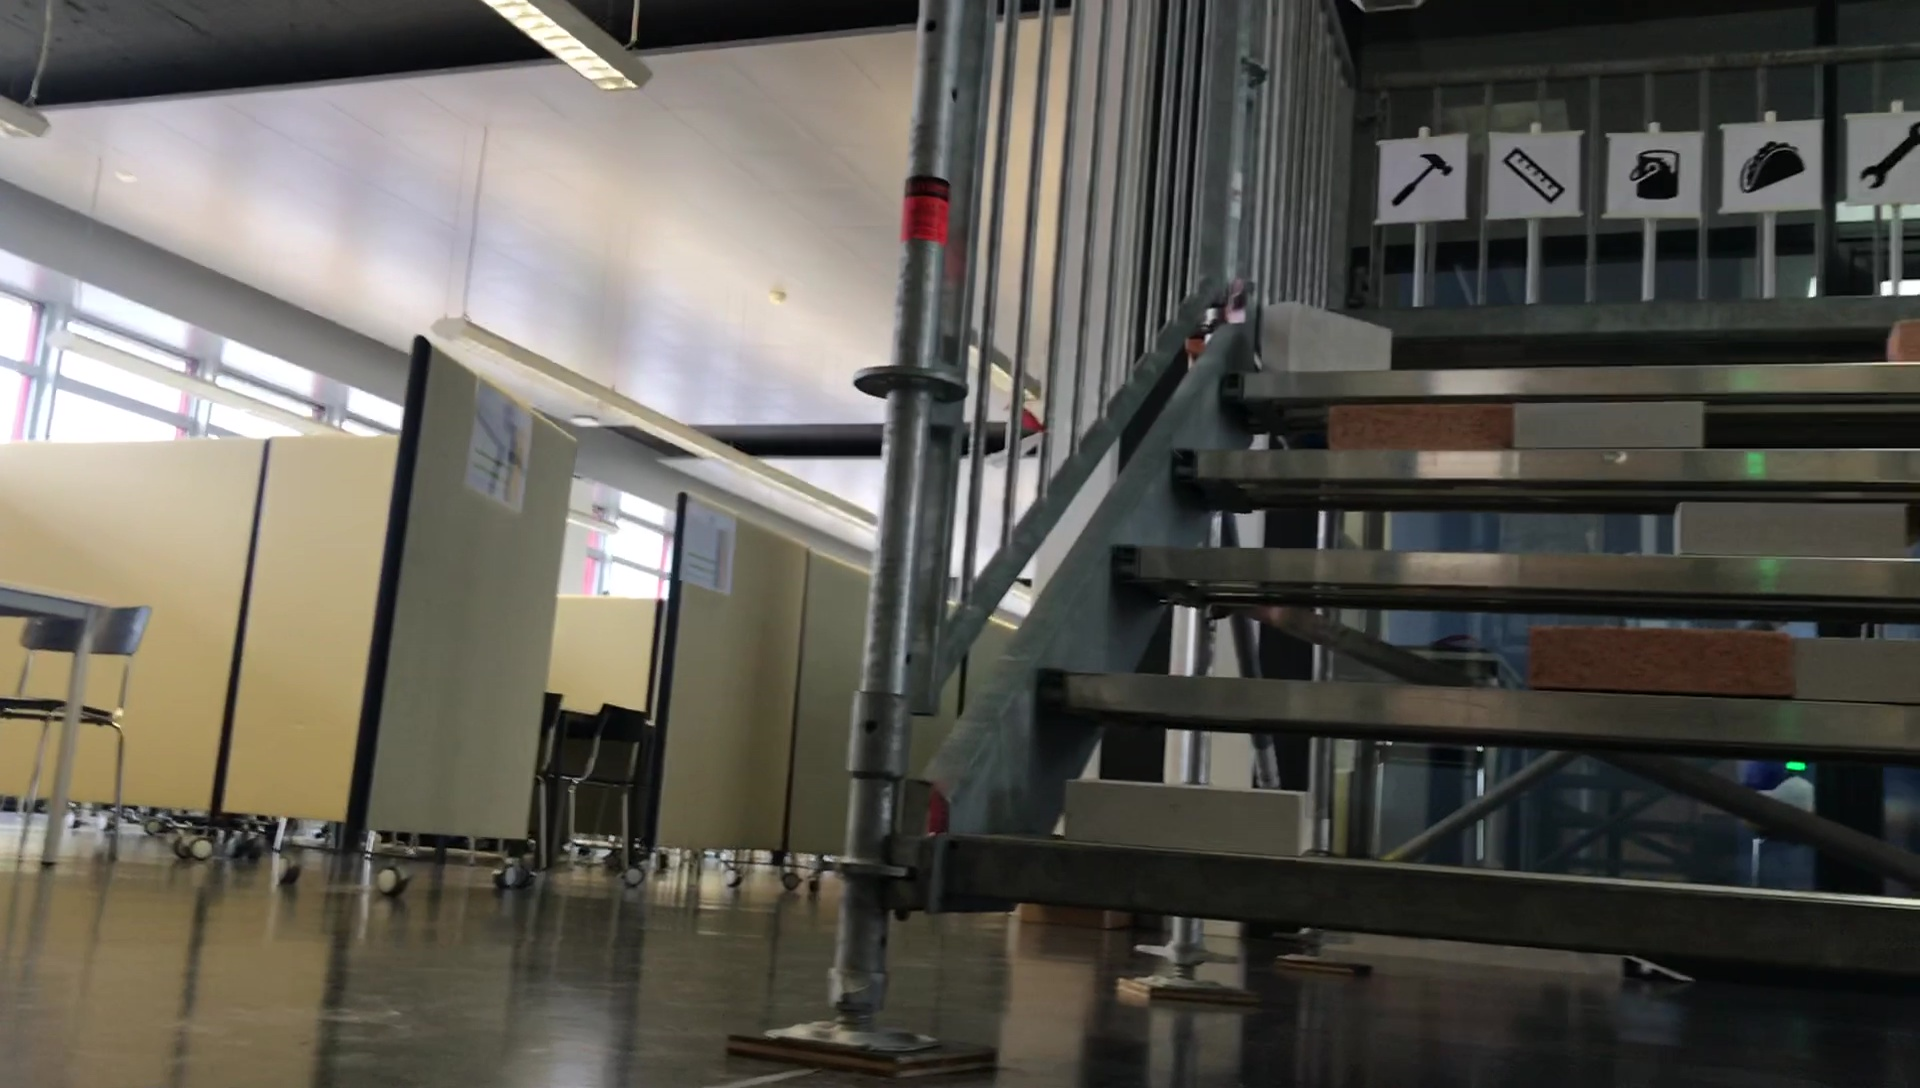brick: (1062, 770, 1319, 851), (1527, 619, 1788, 692), (1669, 501, 1916, 550), (1514, 389, 1713, 448), (1323, 404, 1519, 455), (1801, 630, 1920, 702), (1259, 305, 1391, 368), (1886, 324, 1920, 357)
bucket: (1629, 142, 1677, 202)
edge: (944, 833, 1920, 957), (1036, 663, 1920, 731), (1102, 543, 1920, 588), (1266, 298, 1909, 338), (1176, 448, 1917, 480), (1226, 375, 1920, 397)
hammer: (1389, 146, 1452, 208)
ruler: (1502, 146, 1564, 204)
stairs: (814, 0, 1920, 1076)
steps: (858, 285, 1920, 955)
taco: (1735, 138, 1811, 196)
wrench: (1854, 119, 1920, 193)
